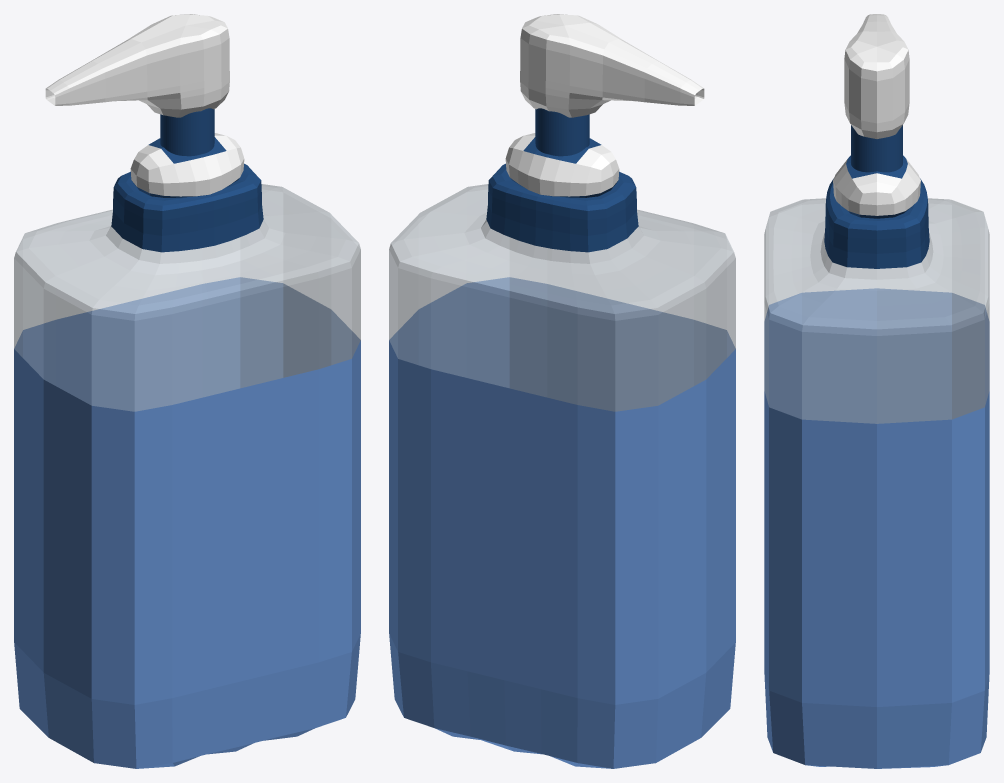
File: alcohol disinfectant.fbx
The picture shows the model from 3 angles, left to right: view 1: azimuth 30°, elevation 25°; view 2: azimuth 150°, elevation 25°; view 3: azimuth 270°, elevation 25°; orthographic projection. The views are drawn at different scales.
Parts seen in each view (by area): view 1: Cube; view 2: Cube; view 3: Cube.
Part boxes in pixels (x1,y1,x2,y2): Cube: (14, 14, 360, 768); Cube: (389, 14, 735, 768); Cube: (764, 14, 989, 768).
Size of the model in its own units: 380 by 876 by 267.
